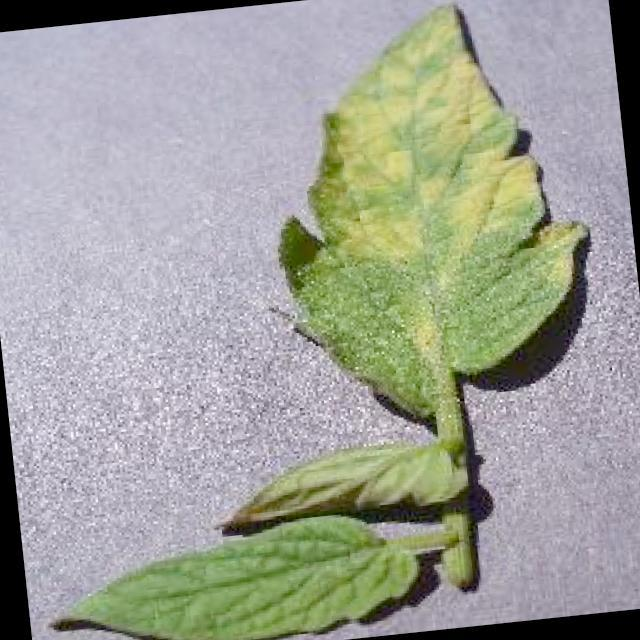Tomato healthy leaf: (37, 509, 421, 640)
Tomato mold leaf: (231, 0, 606, 433)
